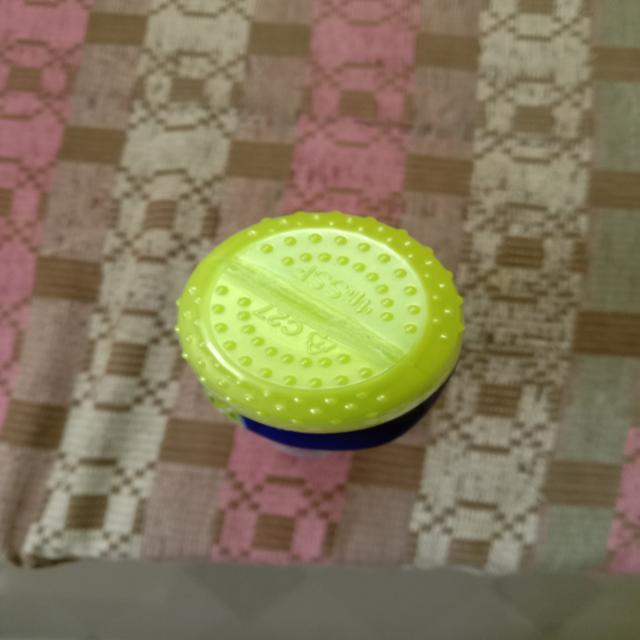detergent: (159, 195, 473, 470)
